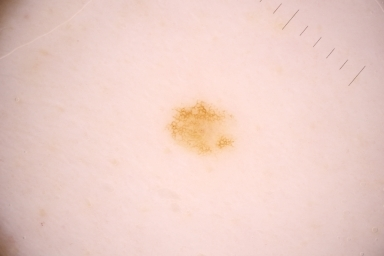nevus: (167, 102, 242, 159)
